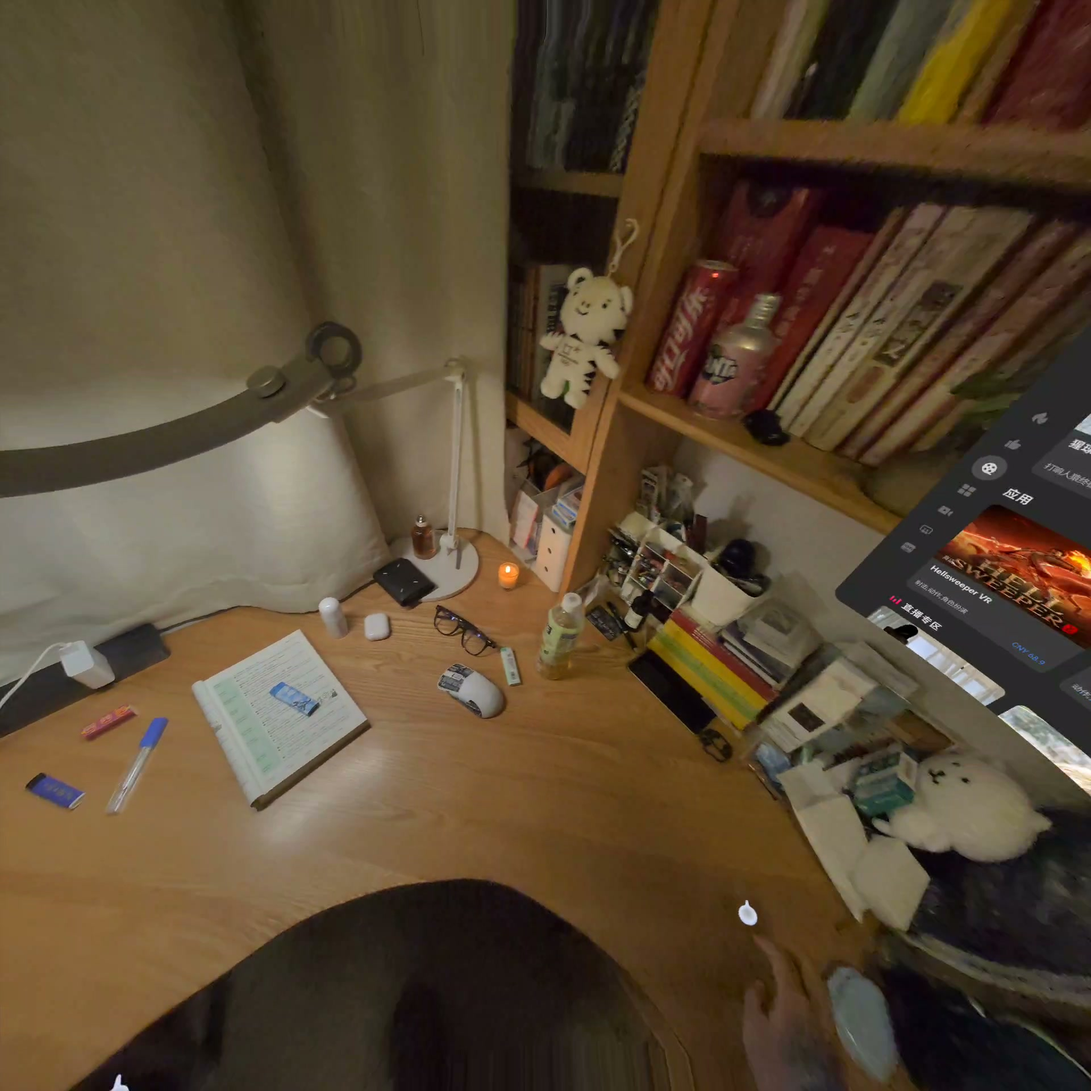lighter: (270, 681, 320, 717)
